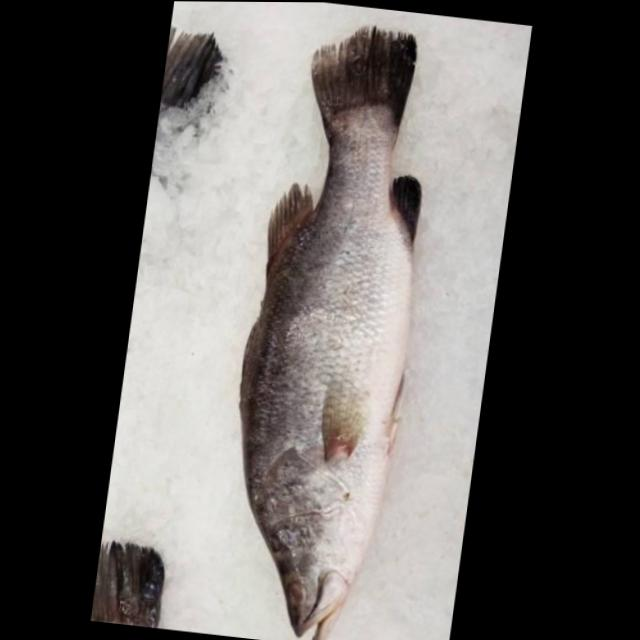Seabass: (202, 12, 450, 640)
